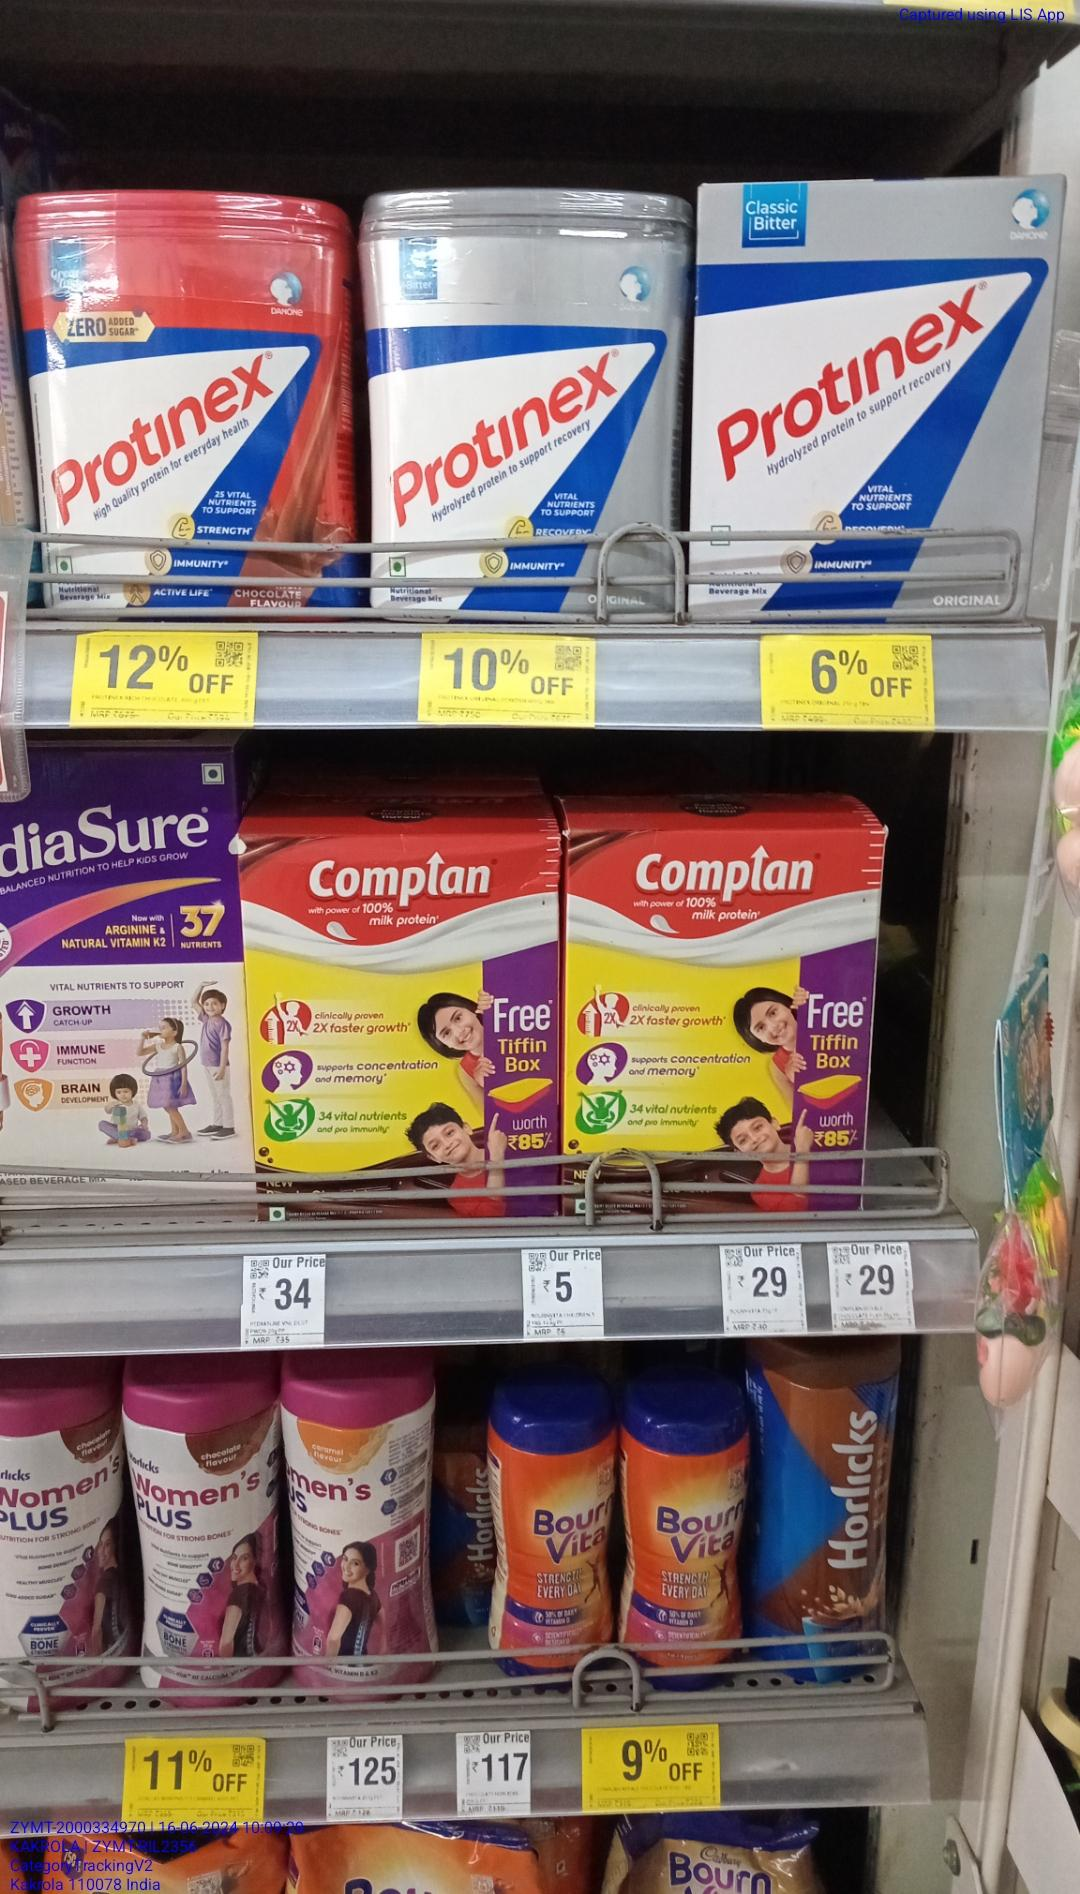BOURN_VITA_500_G_JAR: (485, 1391, 618, 1703), (627, 1394, 747, 1688)
HORLICK_CHOCOLATE_1_KG_JAR: (753, 1345, 894, 1683)
PROTINEX_CHOCOLATE_400_G_JAR: (20, 189, 353, 614)
PROTINEX_ORIGINAL_400_G_JAR: (371, 189, 682, 615)
